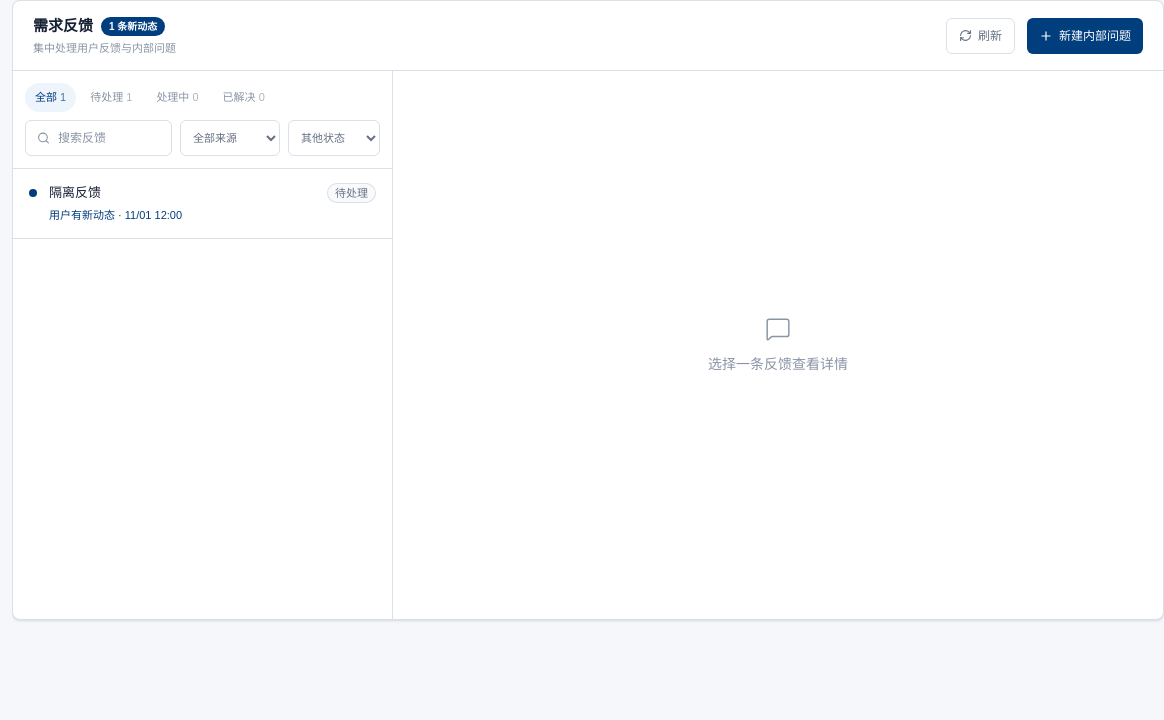
反馈写入回执与沟通记录回读 › keeps the administrator reply and status audit while reading back through the same thread
Click the button "隔离反馈 待处理 用户有新动态 · 11/01 12:00".
click(75, 192)  # box 13,168 -> 392,238
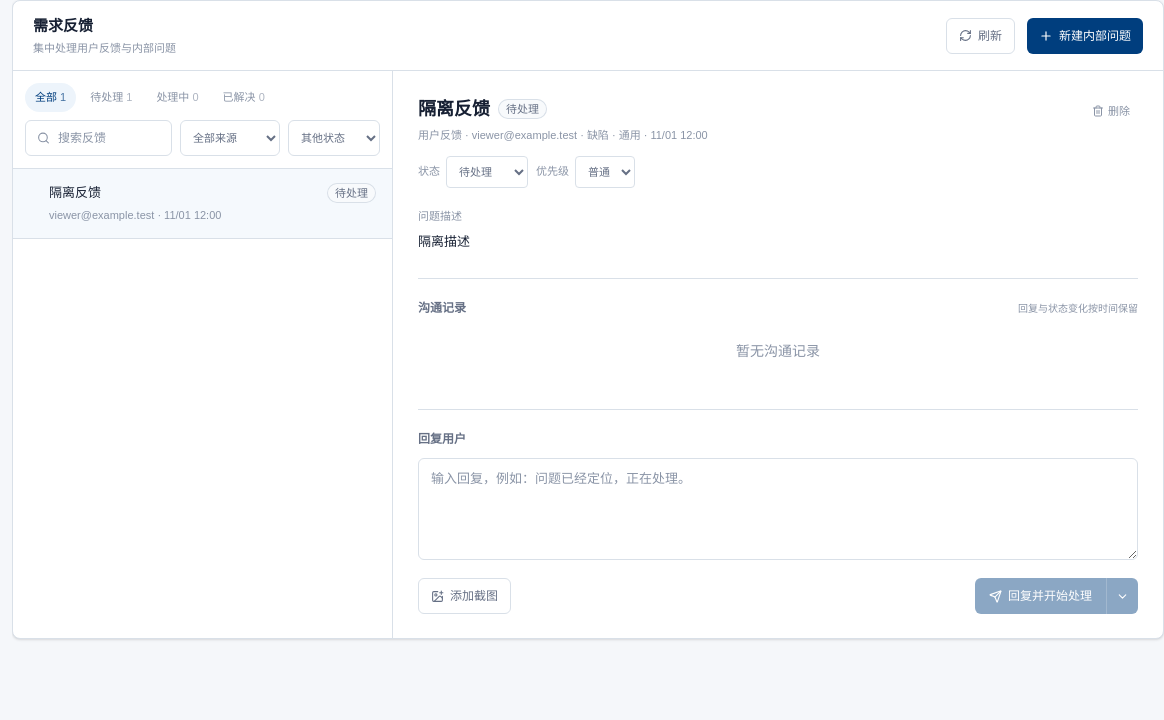
expect the text "暂无沟通记录" is shown: met, box 736,343 -> 820,359
Type "管理员回复" into the text box with placeholder "输入回复，例如：问题已经定位，正在处理。".
click(778, 509); type("管理员回复")  # box 418,458 -> 1138,560
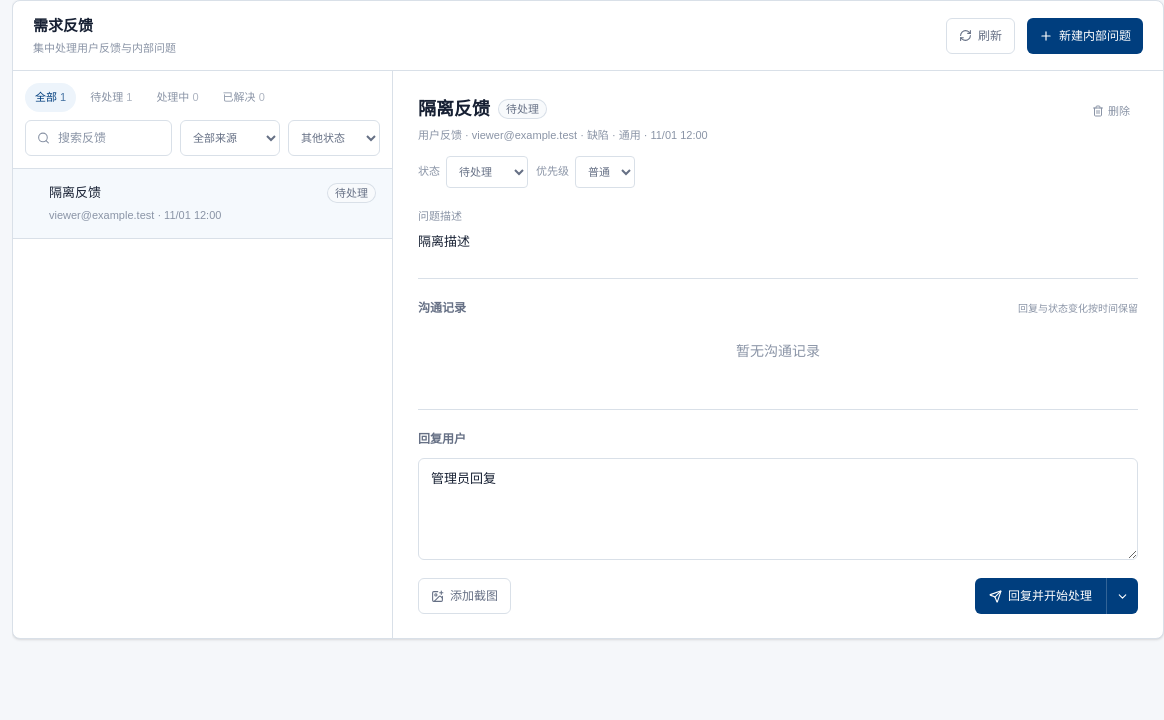
Click the button "回复并开始处理".
click(1040, 596)  # box 975,578 -> 1106,614
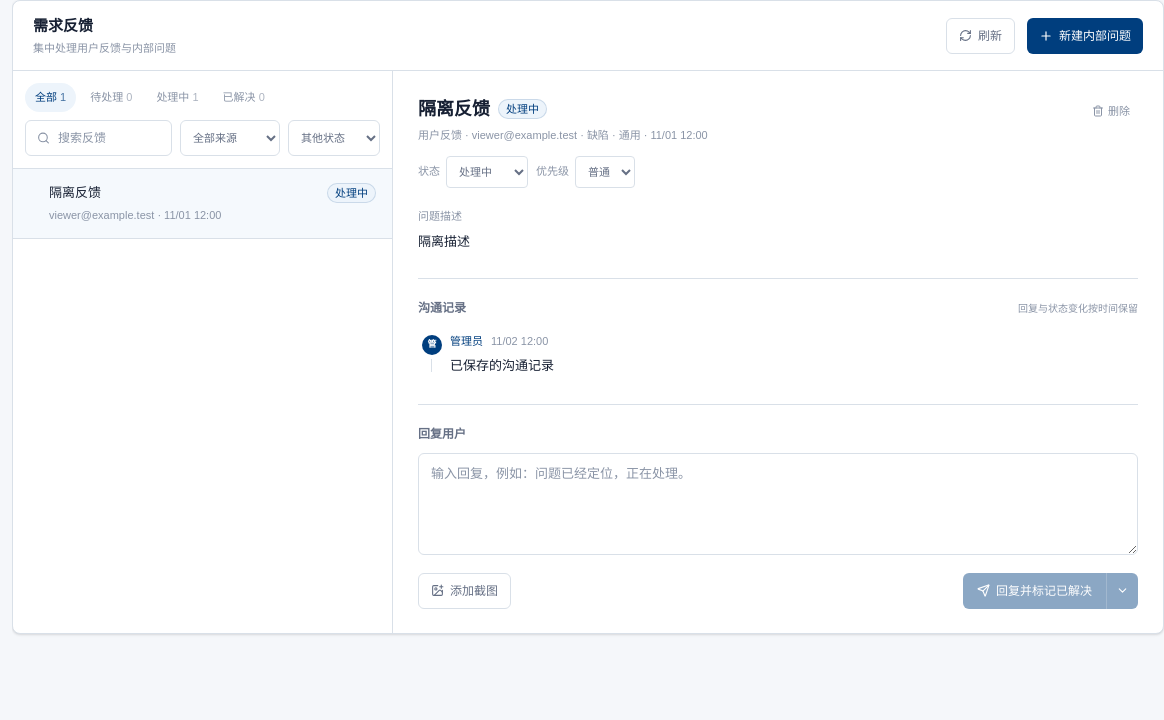
expect the text "已保存的沟通记录" is shown: met, box 450,358 -> 554,372
expect the dropdown labelled "状态" shows "处理中": met, box 446,156 -> 528,188
